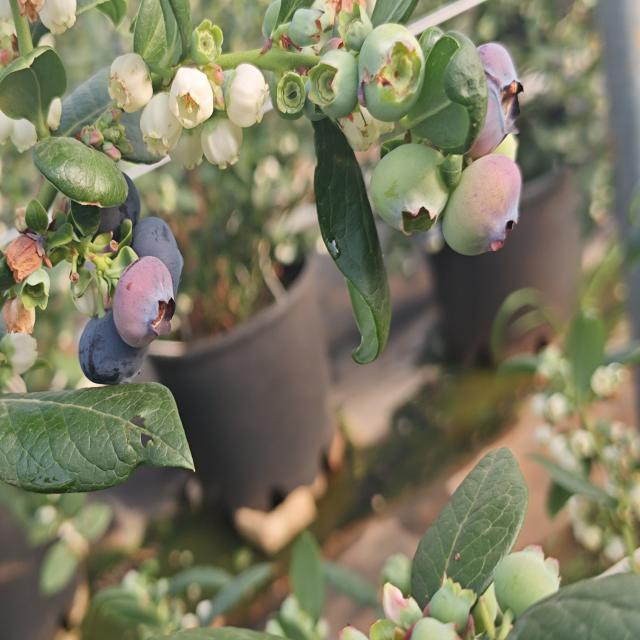ripe: (64, 166, 143, 249), (467, 42, 522, 153), (128, 213, 186, 295), (74, 306, 128, 379)
